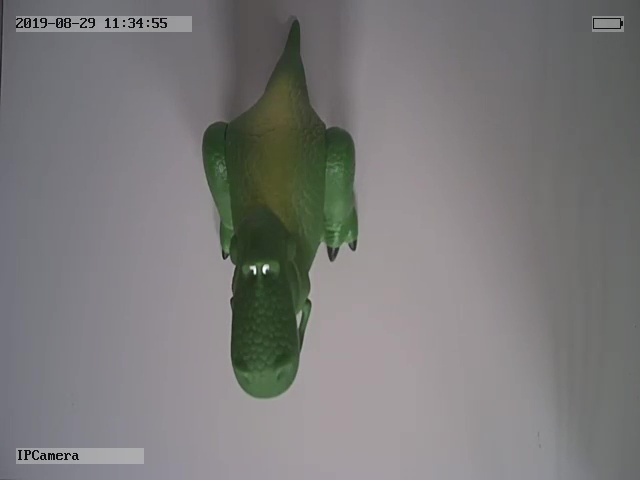rex: (201, 18, 361, 401)
